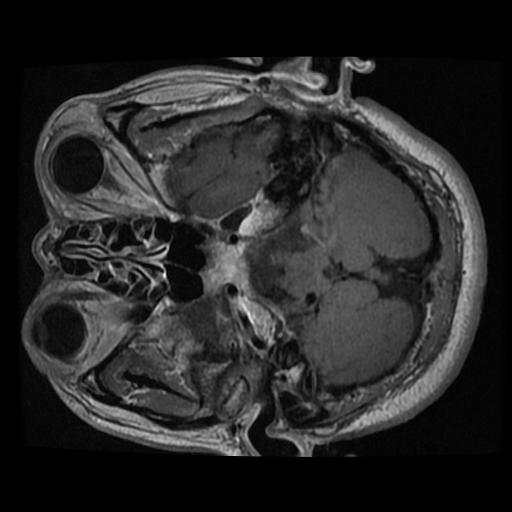pituitary tumour: (199, 242, 250, 291)
